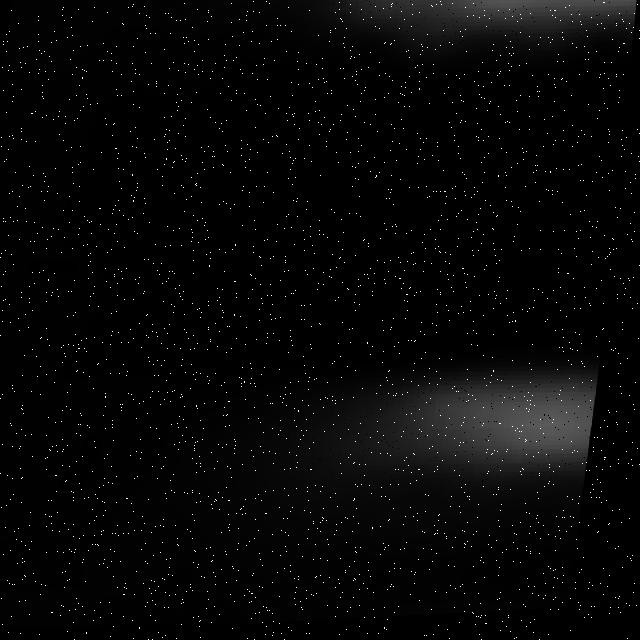person: (256, 342, 611, 517), (242, 1, 640, 55)
